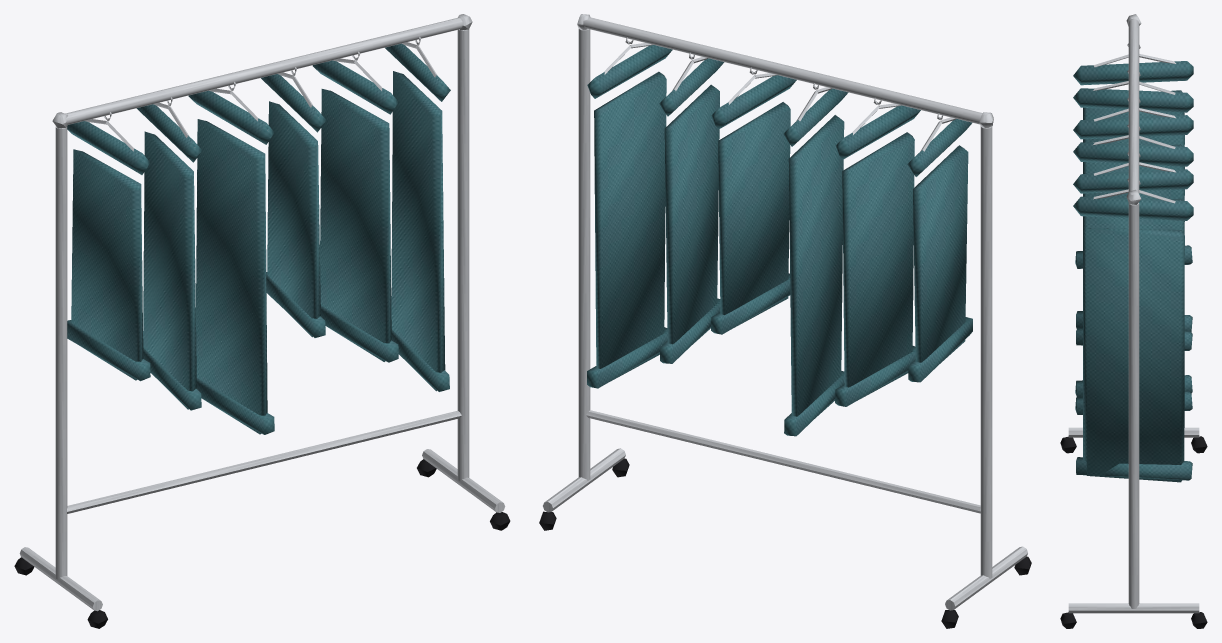
File: arara-14-6-leve.glb
3 renders of one model, left to right at view 1: azimuth 30°, elevation 25°; view 2: azimuth 150°, elevation 25°; view 3: azimuth 270°, elevation 25°, orthographic. The views are drawn at different scales.
Parts seen in each view (by area): view 1: corpo.002, corpo.004, corpo.005, corpo, corpo.001, corpo.003, coluna, coluna.001, varao, travessa, ombros.002, ombros.004 (+12 smaller); view 2: corpo.005, corpo.001, corpo.002, corpo.003, corpo.004, corpo, coluna, coluna.001, varao, travessa, ombros.003, ombros.005 (+12 smaller); view 3: corpo.005, coluna.001, ombros.005, ombros.001, ombros.003, ombros.002, ombros.004, ombros, varao, pe.001, barra.005, corpo.004 (+10 smaller).
Boxes of the visible parts, bbox=[...] form: corpo.002: bbox=[196, 119, 267, 434]; corpo.004: bbox=[320, 89, 391, 361]; corpo.005: bbox=[391, 71, 445, 391]; corpo: bbox=[71, 149, 143, 380]; corpo.001: bbox=[143, 131, 196, 409]; corpo.003: bbox=[267, 101, 320, 337]; coluna: bbox=[55, 126, 67, 579]; coluna.001: bbox=[457, 29, 469, 481]; varao: bbox=[65, 17, 462, 124]; travessa: bbox=[67, 410, 461, 513]; ombros.002: bbox=[188, 90, 274, 144]; ombros.004: bbox=[312, 60, 398, 114]; corpo.005: bbox=[594, 71, 666, 380]; corpo.001: bbox=[842, 132, 914, 400]; corpo.002: bbox=[788, 115, 844, 416]; corpo.003: bbox=[718, 102, 790, 327]; corpo.004: bbox=[664, 84, 719, 344]; corpo: bbox=[913, 145, 968, 363]; coluna: bbox=[980, 126, 992, 578]; coluna.001: bbox=[578, 28, 590, 480]; varao: bbox=[583, 17, 982, 124]; travessa: bbox=[586, 410, 980, 513]; ombros.003: bbox=[711, 75, 796, 129]; ombros.005: bbox=[587, 45, 672, 98]; corpo.005: bbox=[1083, 228, 1184, 482]; coluna.001: bbox=[1128, 202, 1139, 608]; ombros.005: bbox=[1073, 196, 1193, 220]; ombros.001: bbox=[1073, 88, 1193, 112]; ombros.003: bbox=[1073, 142, 1193, 166]; ombros.002: bbox=[1073, 115, 1193, 139]; ombros.004: bbox=[1073, 169, 1193, 193]; ombros: bbox=[1073, 61, 1193, 85]; varao: bbox=[1128, 19, 1139, 193]; pe.001: bbox=[1068, 603, 1199, 613]; barra.005: bbox=[1076, 457, 1192, 480]; corpo.004: bbox=[1083, 198, 1184, 234].
Bounding box in the file's own units: 1.46 × 1.62 × 0.4957.
3 materials, 2 textured.
